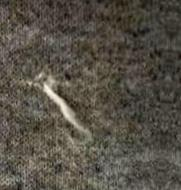snag: (38, 68, 97, 150)
